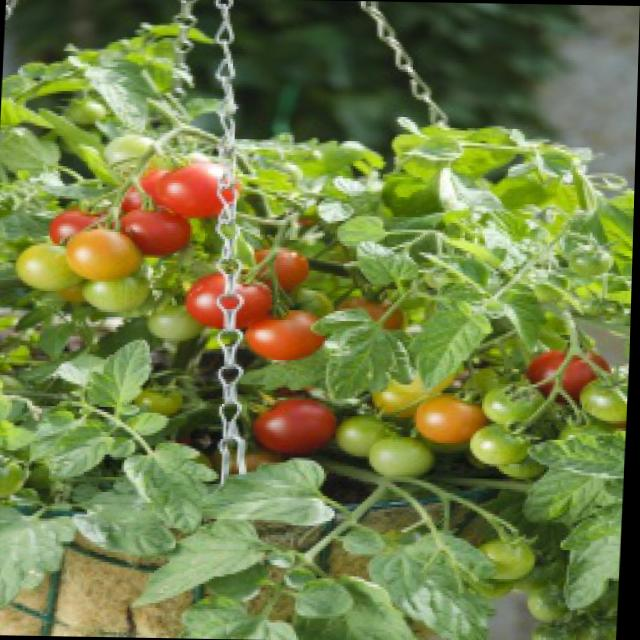tomato: (136, 160, 241, 222), (185, 270, 277, 334), (254, 394, 344, 458), (527, 346, 619, 406), (243, 309, 330, 365), (64, 228, 146, 284), (48, 210, 120, 252)
